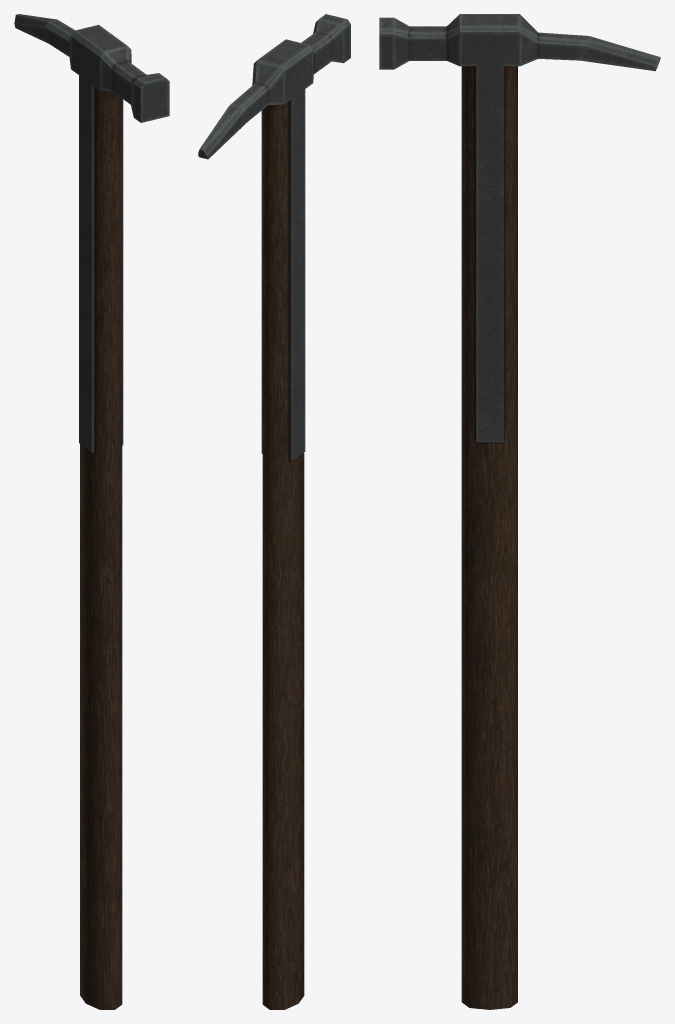
The model's file is war_hammer.fbx.
3 renders of one model, left to right at view 1: azimuth 30°, elevation 25°; view 2: azimuth 150°, elevation 25°; view 3: azimuth 270°, elevation 25°, orthographic. The views are drawn at different scales.
Parts seen in each view (by area): view 1: war_hammer; view 2: war_hammer; view 3: war_hammer.
Part boxes in pixels (x1=…): war_hammer: x1=14, y1=14, x2=169, y2=1009; war_hammer: x1=198, y1=14, x2=350, y2=1009; war_hammer: x1=379, y1=14, x2=660, y2=1009.
Size of the model in its own units: 4.9 by 145 by 37.64.
